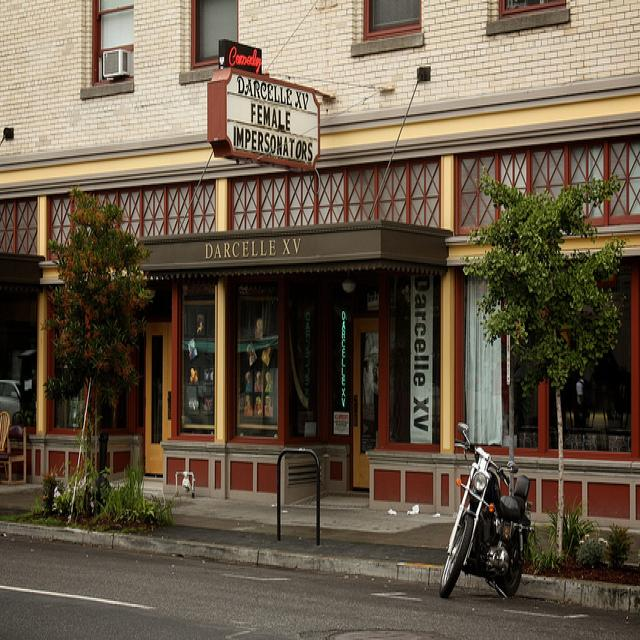motor: (439, 424, 535, 599)
